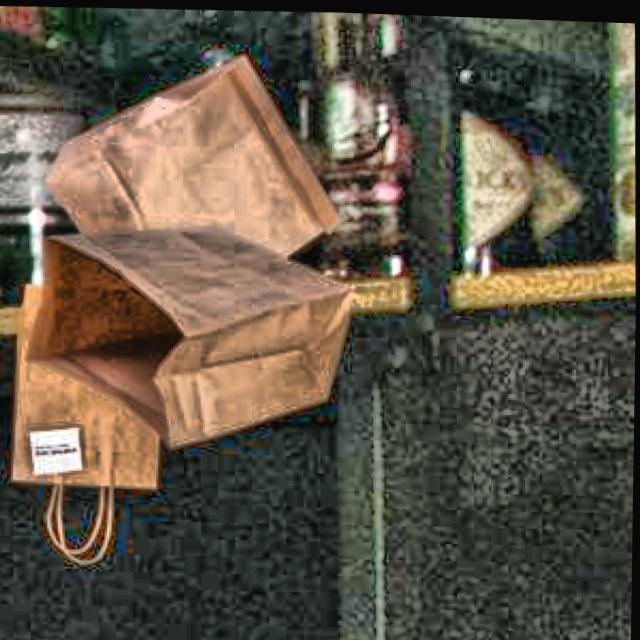Paper-bag: (40, 44, 352, 313), (20, 200, 353, 437), (0, 273, 180, 574)
